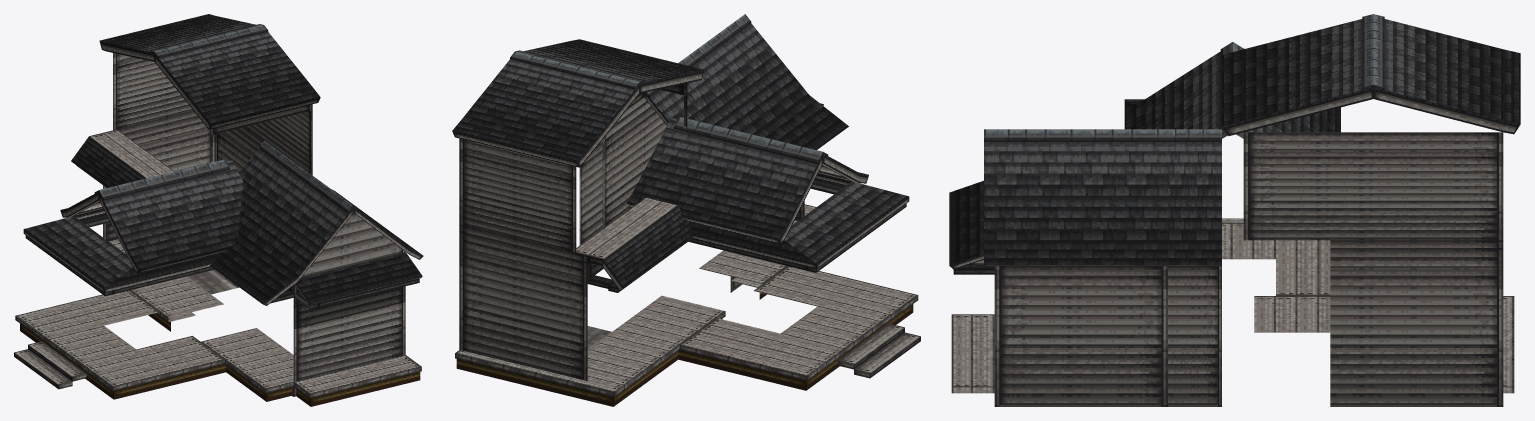
The model's file is EnvBdgMD_Wilderness_A_Outdoor_A_Timelapuse_D.FBX.
3 renders of one model, left to right at view 1: azimuth 30°, elevation 25°; view 2: azimuth 150°, elevation 25°; view 3: azimuth 270°, elevation 25°, orthographic. The views are drawn at different scales.
Parts seen in each view (by area): view 1: EnvBdgMD_Wilderness_A_Outdoor_A_Timelapuse_D; view 2: EnvBdgMD_Wilderness_A_Outdoor_A_Timelapuse_D; view 3: EnvBdgMD_Wilderness_A_Outdoor_A_Timelapuse_D.
Part boxes in pixels (<box>): EnvBdgMD_Wilderness_A_Outdoor_A_Timelapuse_D: <box>14,14,423,406</box>; EnvBdgMD_Wilderness_A_Outdoor_A_Timelapuse_D: <box>452,14,920,406</box>; EnvBdgMD_Wilderness_A_Outdoor_A_Timelapuse_D: <box>949,14,1520,406</box>.
Size of the model in its own units: 1050 by 820 by 1320.
Materials: 1 (1 with a texture image).
